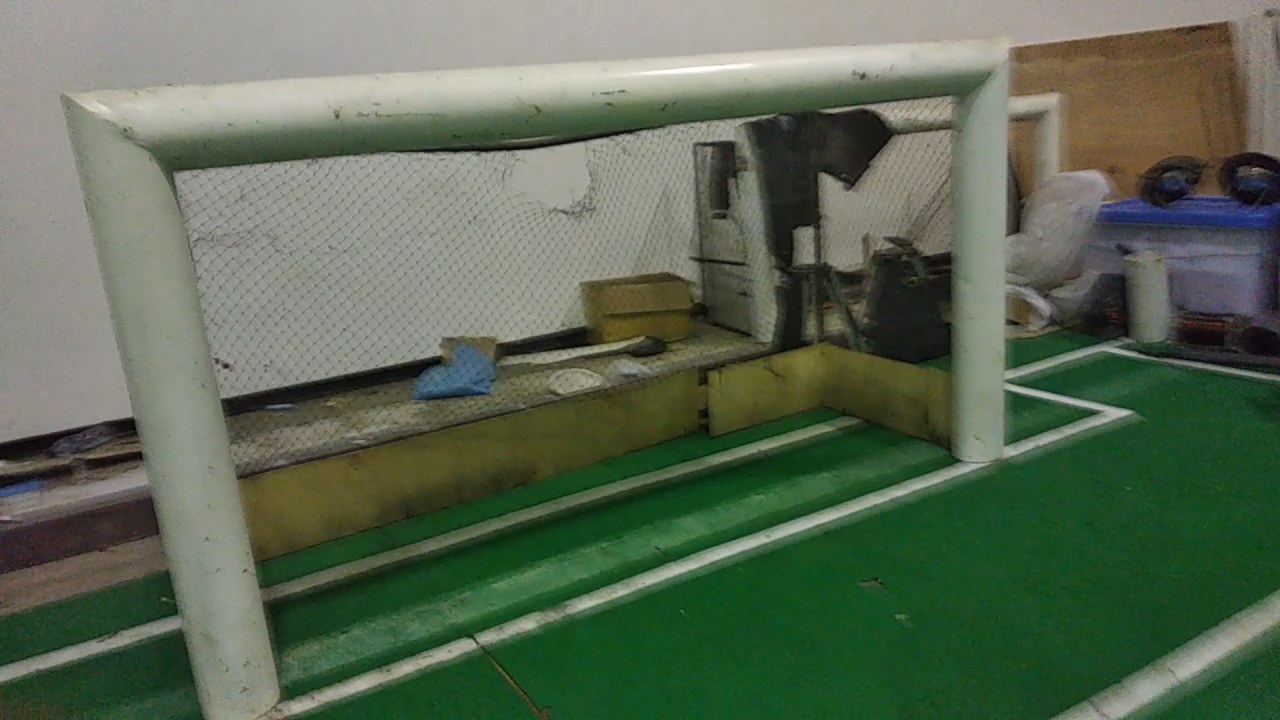gawang: (42, 27, 1034, 719)
